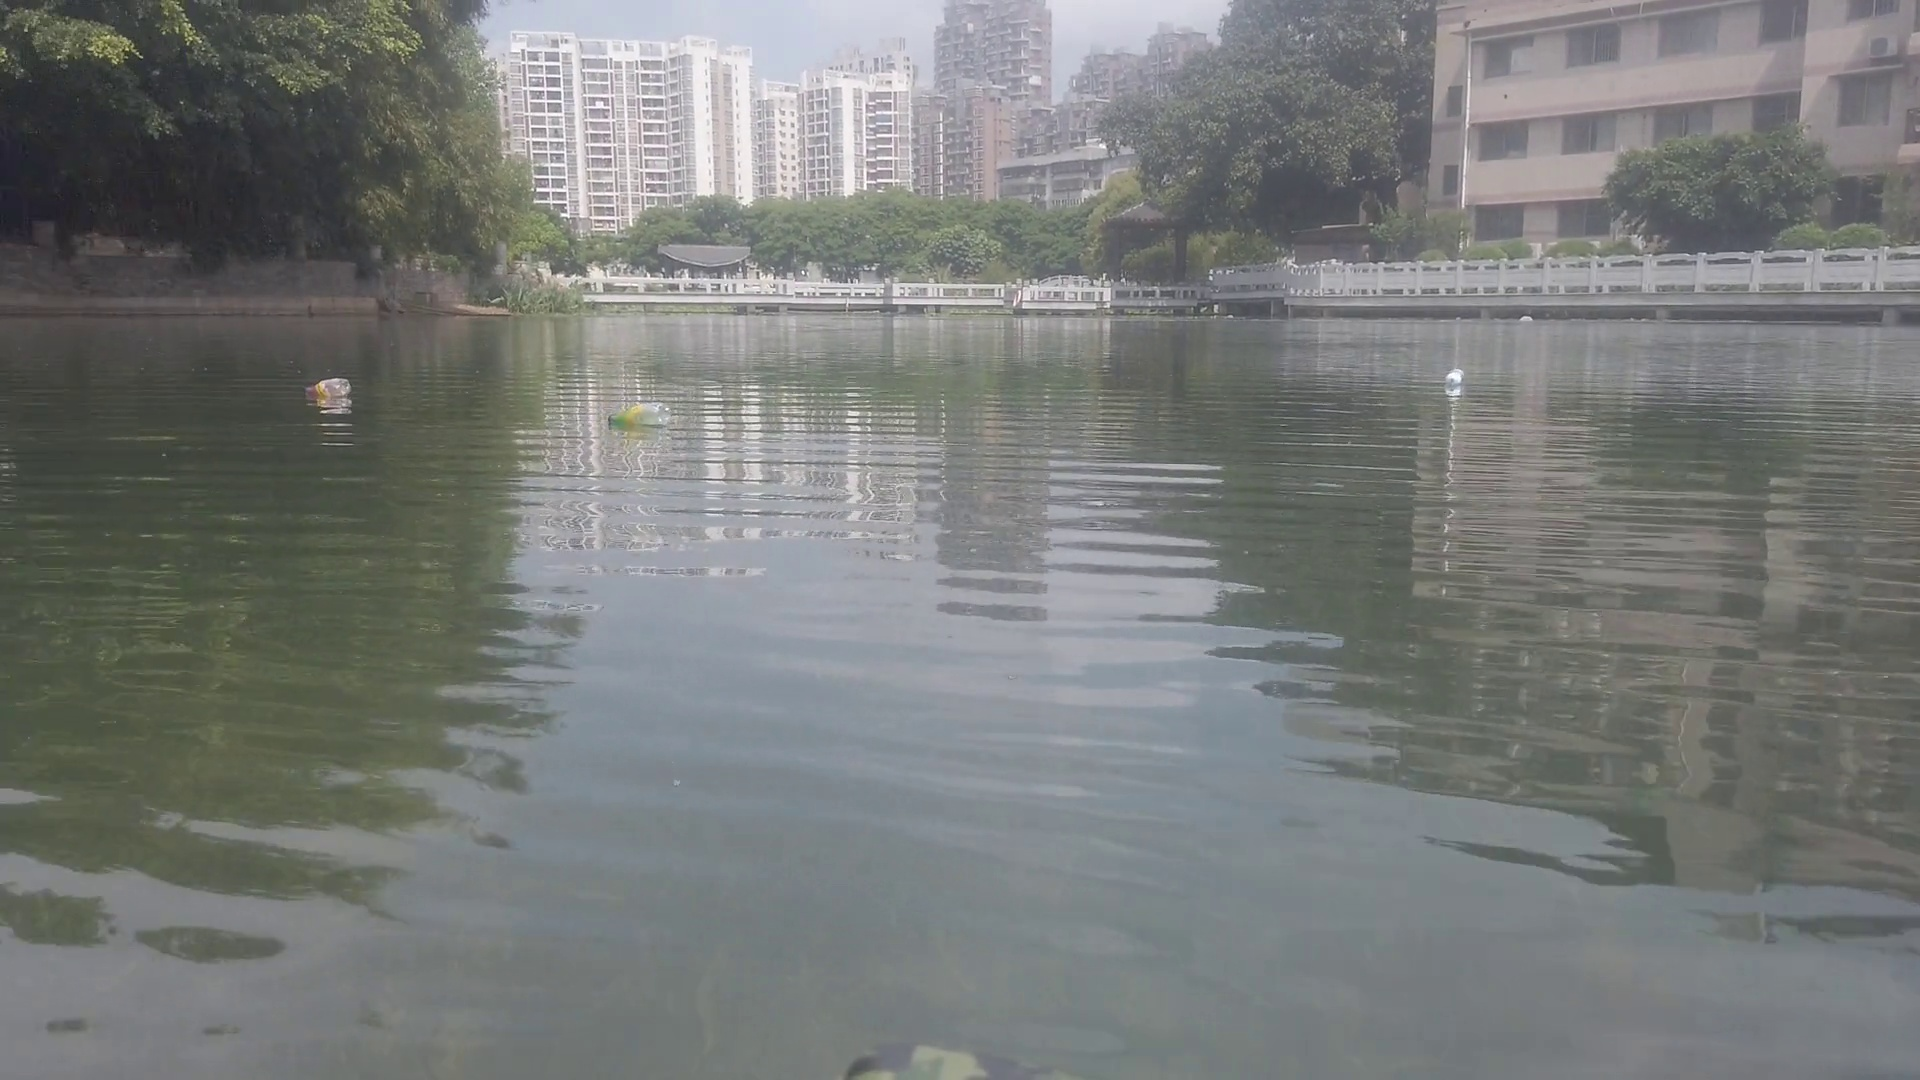bottle: (609, 404, 673, 429), (301, 375, 349, 394), (1444, 364, 1462, 388)
plastic: (1518, 314, 1531, 324)
